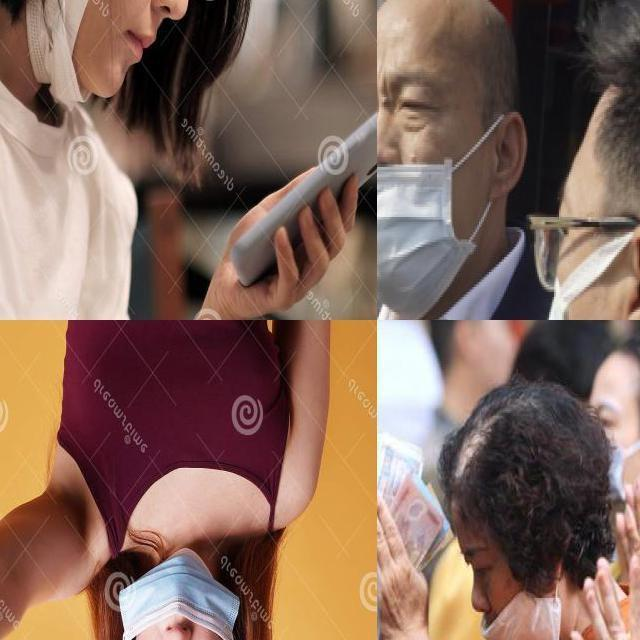hairnet: (377, 122, 470, 319), (28, 0, 190, 97), (132, 548, 227, 639), (461, 570, 558, 640)
